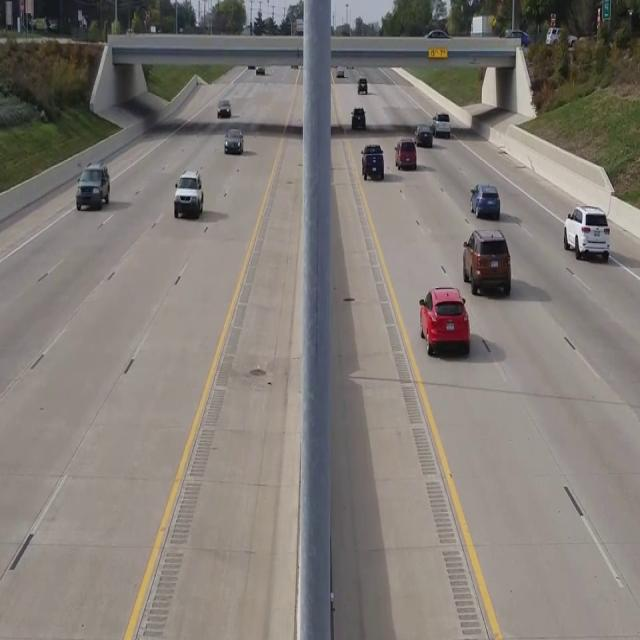car: (419, 286, 470, 356), (563, 205, 610, 261), (76, 162, 110, 211), (174, 172, 204, 218), (470, 183, 500, 219), (361, 144, 384, 180), (394, 138, 416, 170), (224, 127, 243, 153), (217, 100, 230, 118)
